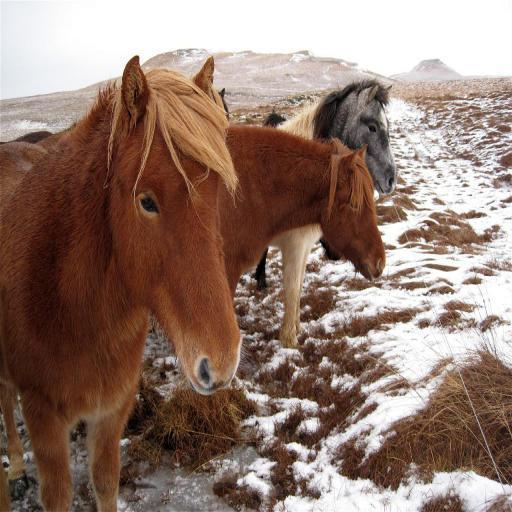horse: (0, 49, 245, 511), (272, 75, 399, 348), (217, 120, 387, 301), (254, 110, 288, 294), (213, 86, 231, 122), (18, 128, 54, 143)
